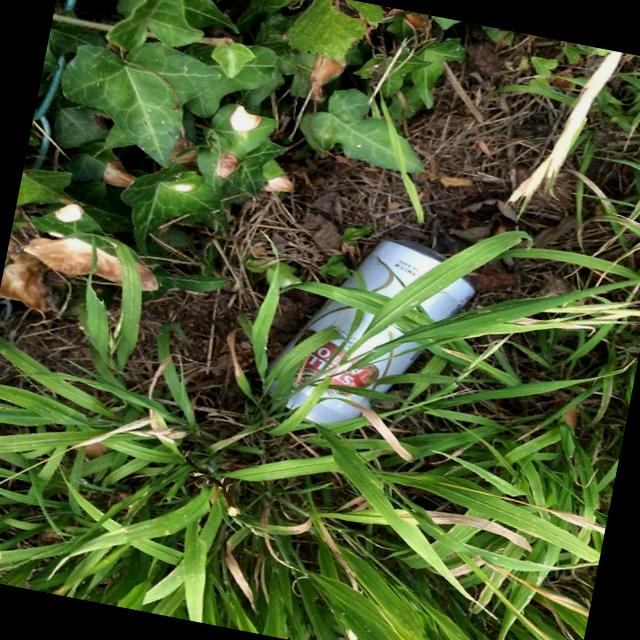Recycle: (296, 219, 482, 456)
